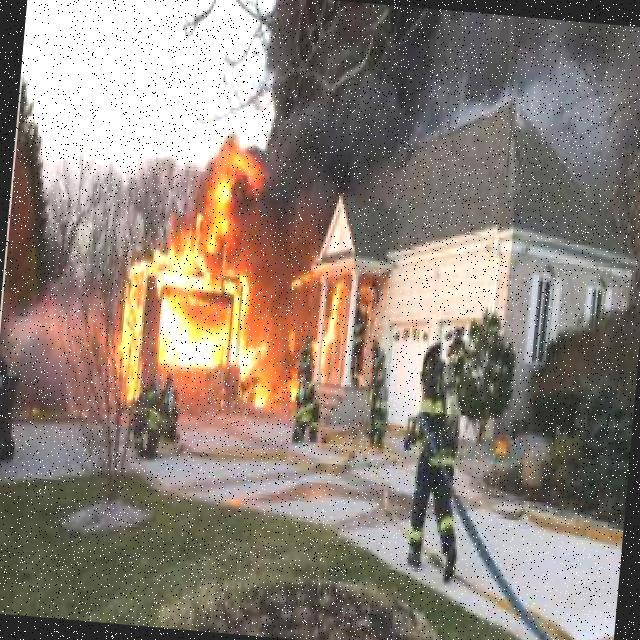Fire: (116, 216, 256, 416), (199, 143, 275, 225), (311, 264, 345, 380), (240, 338, 280, 413), (279, 321, 304, 406)
